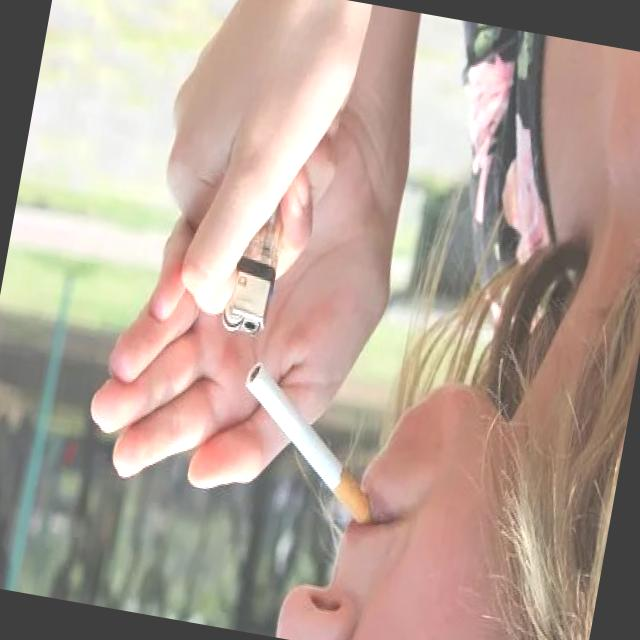cigarette: (220, 352, 400, 534)
